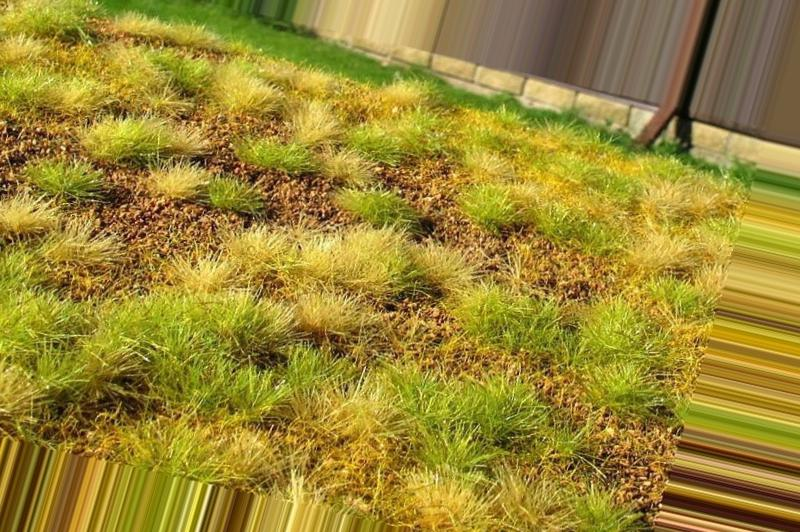patch: (31, 57, 396, 476), (242, 157, 506, 369), (516, 149, 736, 308), (496, 368, 629, 505)
